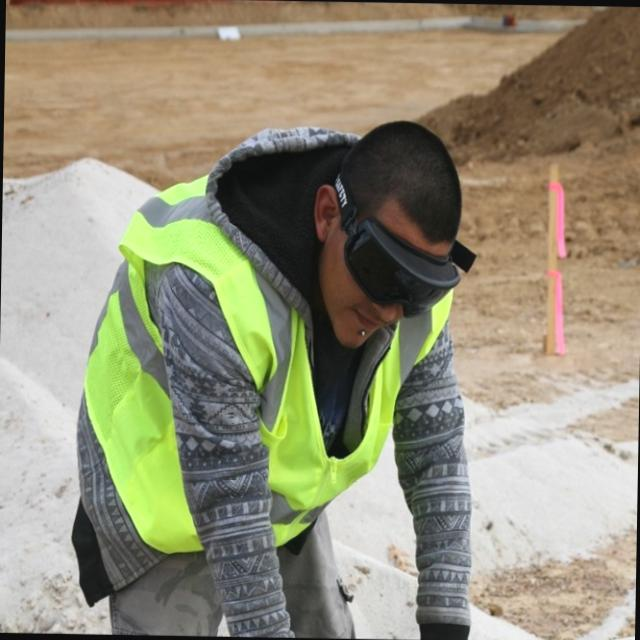goggles: (330, 215, 464, 308)
no-helmet: (310, 75, 476, 215)
vest: (90, 194, 434, 518)
